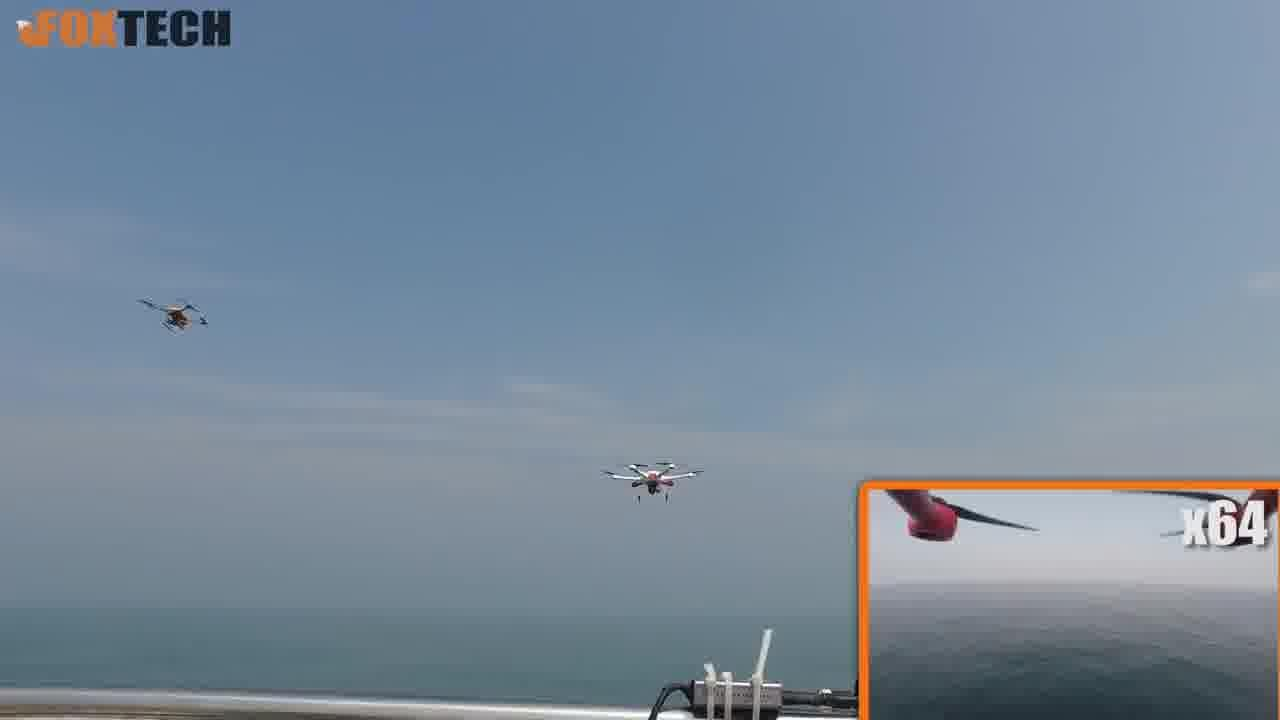drone: (604, 445, 704, 516), (130, 289, 215, 347)
